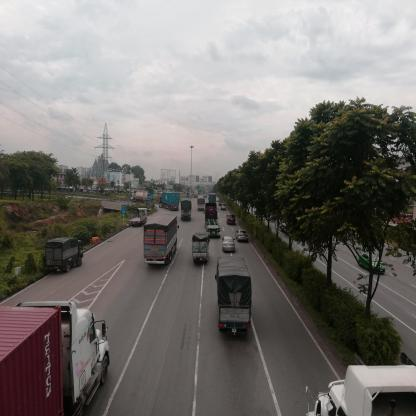car: (223, 237, 236, 252), (240, 231, 248, 243), (228, 215, 236, 225)
container: (1, 299, 109, 416), (308, 366, 416, 416), (206, 203, 219, 229), (160, 194, 180, 209), (132, 193, 149, 204)
truck: (220, 259, 249, 334), (145, 216, 177, 265), (48, 240, 83, 269), (193, 235, 209, 262), (129, 210, 146, 229), (183, 201, 193, 219)
